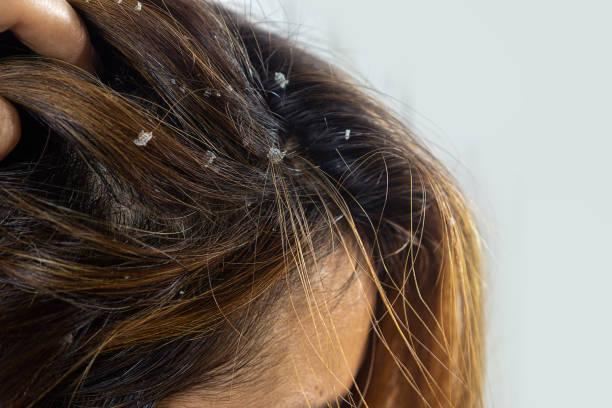dandruff: (195, 79, 242, 102), (120, 125, 157, 152), (258, 139, 290, 168), (156, 69, 186, 97), (193, 145, 217, 175), (272, 66, 295, 94), (169, 281, 189, 304), (341, 119, 358, 146), (125, 0, 148, 15)
